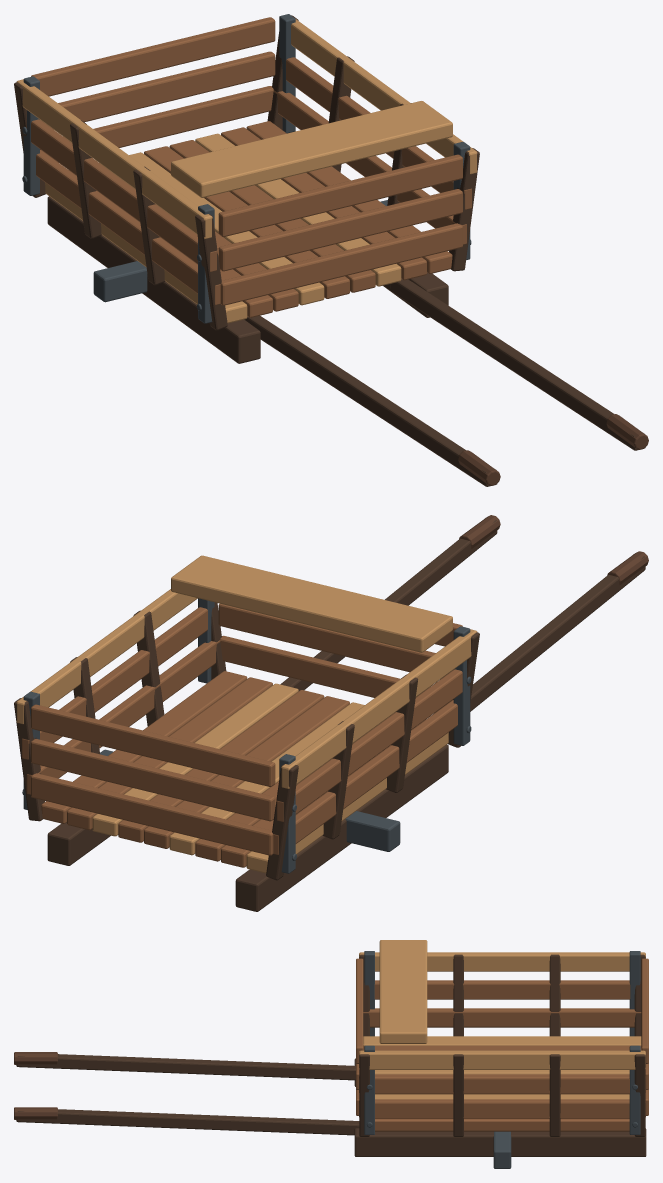
Rendered from cart_body.glb.
3 renders of one model, top to bottom at view 1: azimuth 30°, elevation 25°; view 2: azimuth 150°, elevation 25°; view 3: azimuth 270°, elevation 25°, orthographic. The views are drawn at different scales.
Parts seen in each view (by area): view 1: cart_body__structure, cart_body__finish; view 2: cart_body__structure, cart_body__finish; view 3: cart_body__structure, cart_body__finish.
Part boxes in pixels (left/top/right/bottom): cart_body__structure: left=14, top=15, right=645, bottom=486; cart_body__finish: left=23, top=14, right=648, bottom=485; cart_body__structure: left=14, top=518, right=645, bottom=911; cart_body__finish: left=23, top=515, right=648, bottom=873; cart_body__structure: left=16, top=940, right=648, bottom=1168; cart_body__finish: left=14, top=951, right=640, bottom=1134.
Size of the model in its own units: 2.08 by 1.16 by 5.07.
